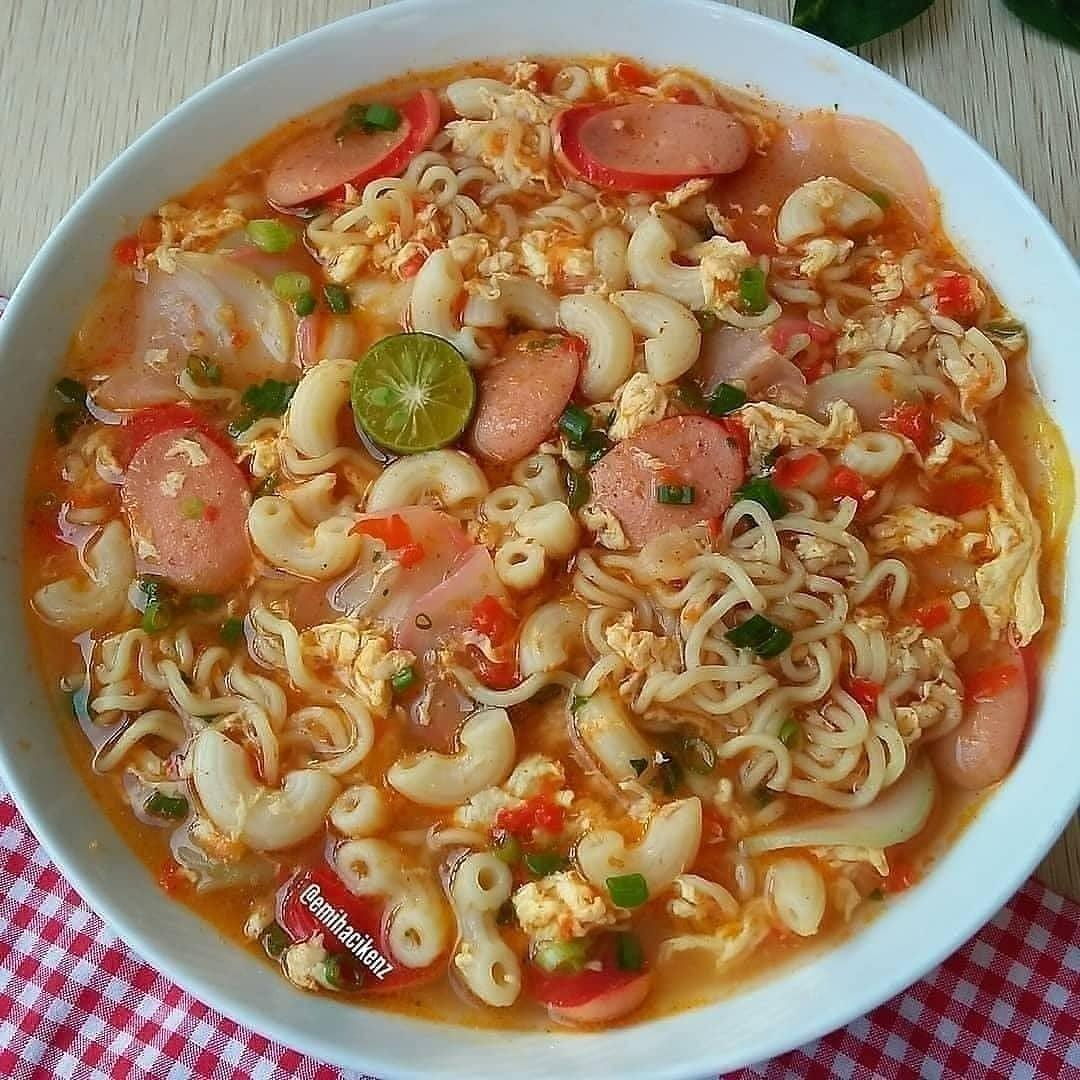seblak: (22, 53, 1062, 1030)
